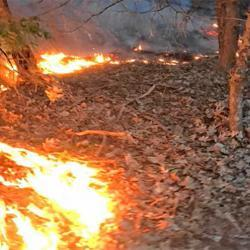fire: (33, 158, 107, 231), (43, 51, 104, 71)
